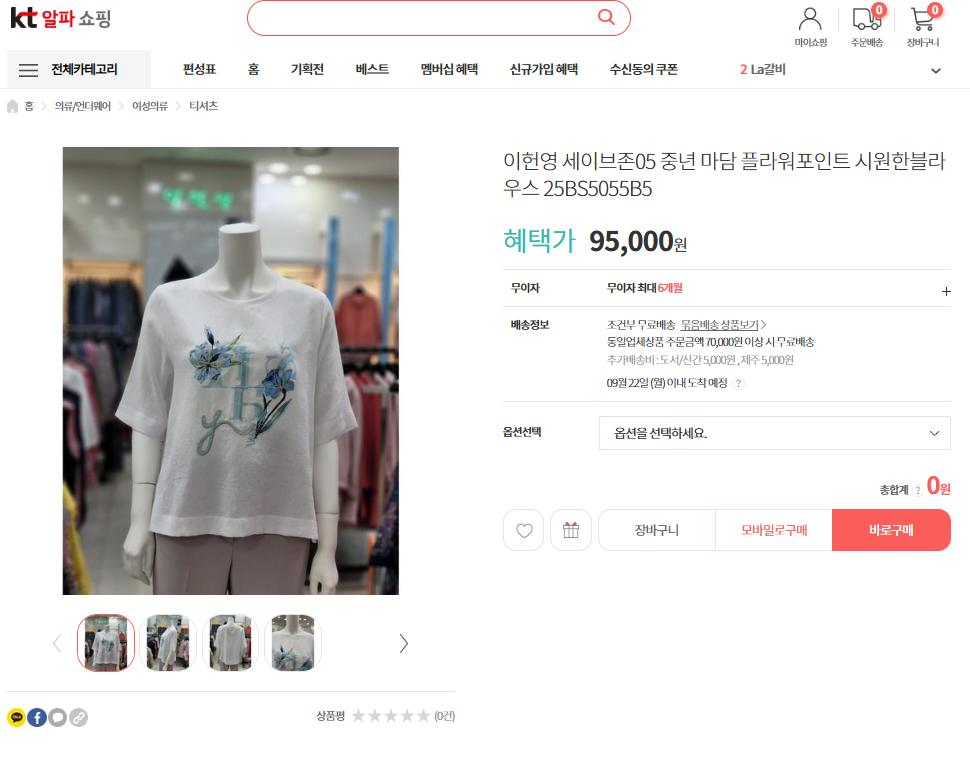button: (830, 507, 954, 552), (714, 508, 824, 550), (596, 511, 708, 549), (782, 3, 838, 61), (846, 0, 894, 60), (402, 56, 489, 86), (903, 0, 950, 54), (606, 53, 686, 82), (343, 51, 406, 86), (502, 58, 577, 84), (507, 512, 543, 554), (550, 516, 590, 548), (681, 317, 769, 331), (233, 54, 274, 84), (389, 624, 414, 673), (181, 56, 221, 84), (40, 622, 68, 660), (290, 58, 329, 83), (927, 280, 962, 300), (46, 706, 67, 727), (67, 707, 87, 729), (28, 708, 46, 727), (6, 711, 24, 728), (734, 376, 746, 391)
checkbox: (598, 416, 953, 451), (6, 52, 147, 89), (739, 59, 944, 79)
input_field: (250, 3, 631, 38)
